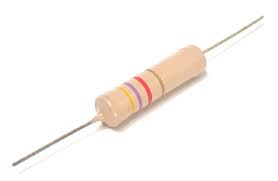resistor: (78, 36, 221, 140)
